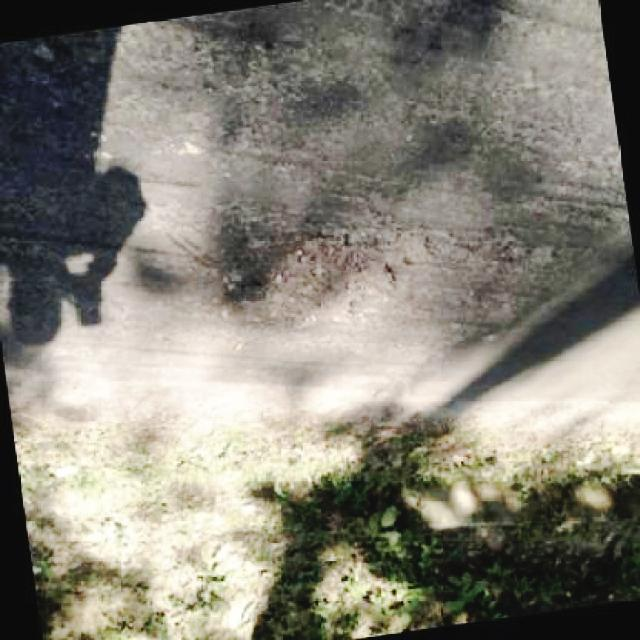pothole: (229, 238, 411, 329), (123, 23, 294, 106), (436, 198, 562, 288)
